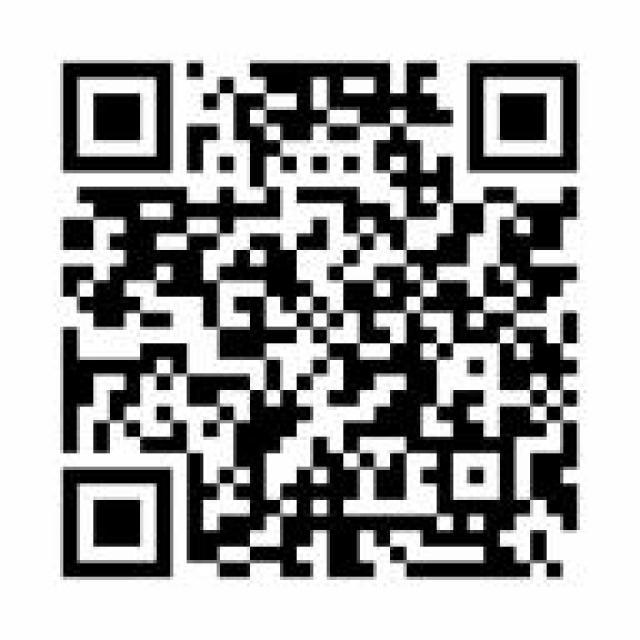qr_code: (62, 62, 578, 578)
